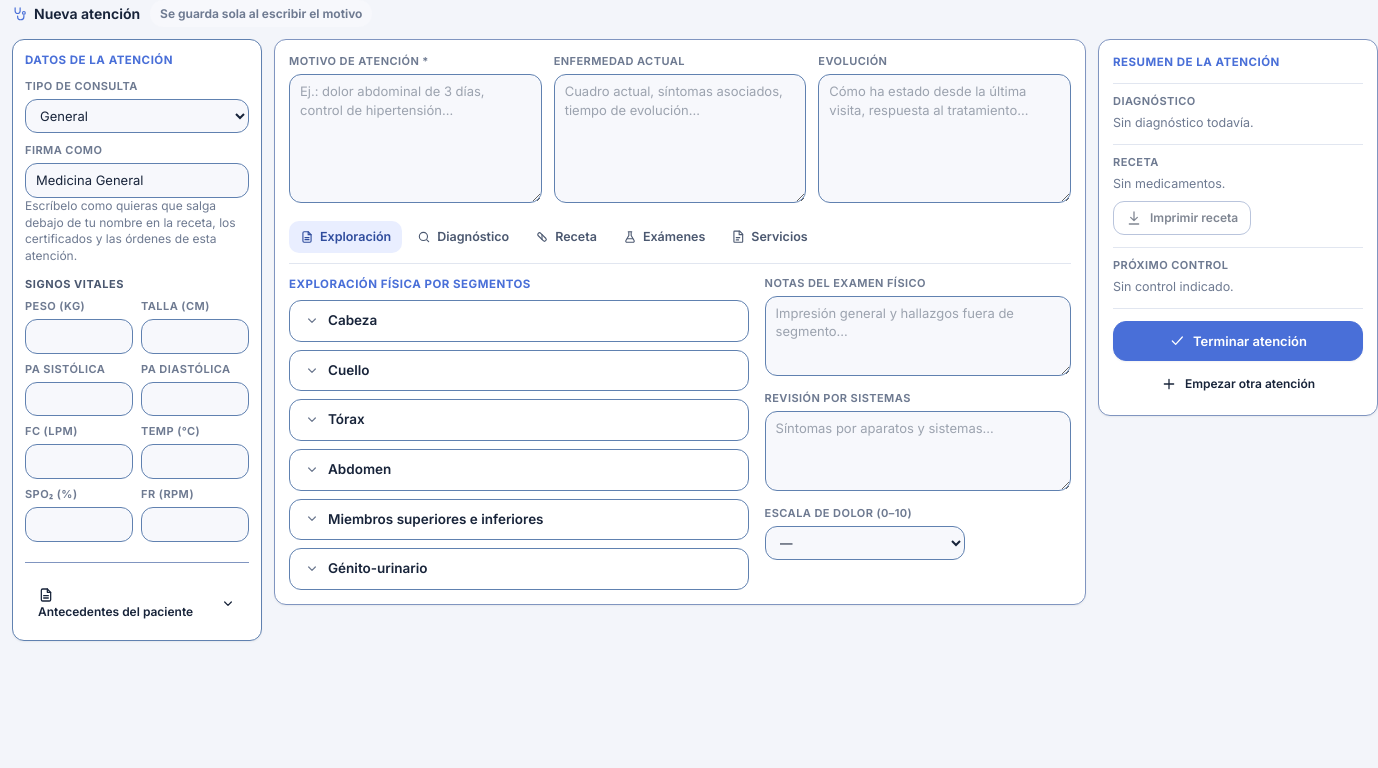
Encounter capability inventory › keeps vital entry and the derived BMI
The image size is (1378, 768).
Type "70" into the field labelled "Peso (kg)" at (79, 336), box x1=25 y1=319 x2=133 y2=354
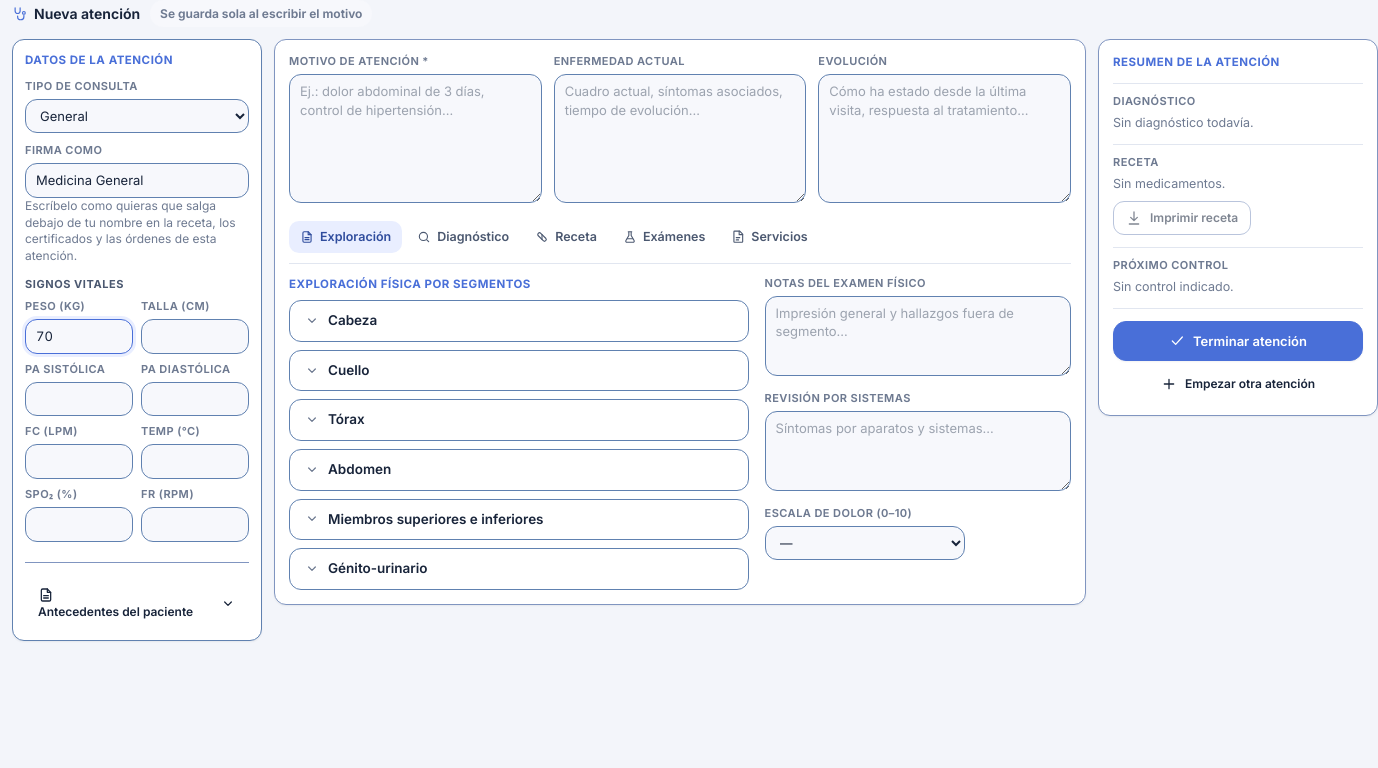
Type "175" into the field labelled "Talla (cm)" at (195, 336), box x1=141 y1=319 x2=249 y2=354
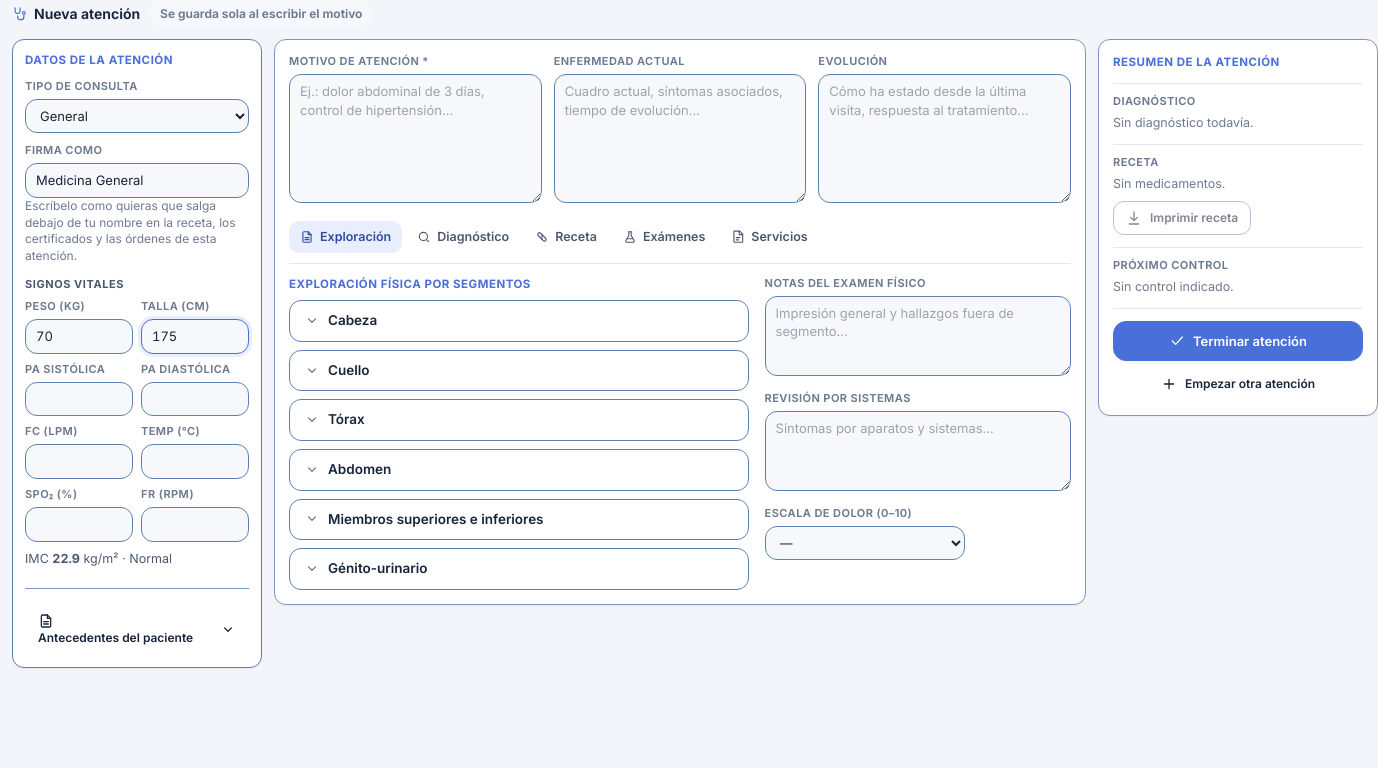
Now the text "22.9" is shown, box x1=52 y1=551 x2=80 y2=566
Now the text "IMC 22.9 kg/m² · Normal" is shown, box x1=25 y1=551 x2=172 y2=566
